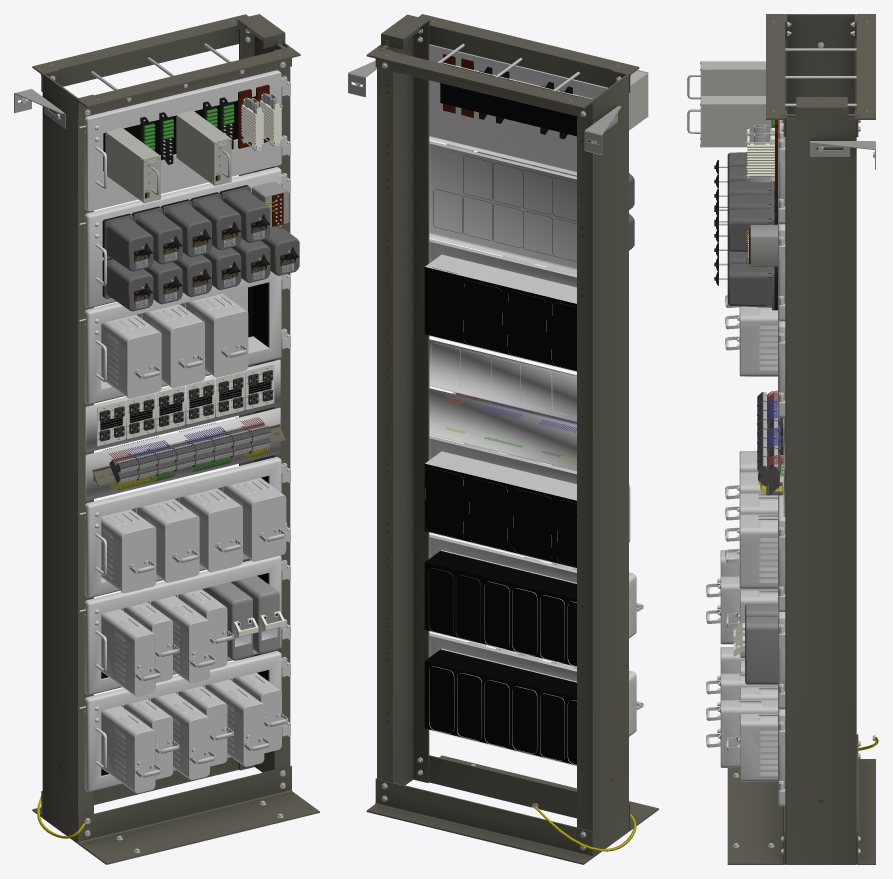
The model's file is stativ223.fbx.
3 renders of one model, left to right at view 1: azimuth 30°, elevation 25°; view 2: azimuth 150°, elevation 25°; view 3: azimuth 270°, elevation 25°, orthographic.
Visible parts, largest first — view 1: cabinet_stativ230a.016, pan_low.002, FPM_group.014, FPM_group.015, FPM_group.011, glass.005_low.003, FPM_group.013, glass.005_low.004, FPM_group.010, kolodka2_low.003, FPM_group.012, fpm.002_low.001 (+12 smaller); view 2: cabinet_stativ230a.016, pan_low.002, FPM_group.011, Cube_low.003, FPM_group.013; view 3: cabinet_stativ230a.016, pan_low.002, FPM_group.014, FPM_group.011, glass.005_low.003, FPM_group.010, Cube_low.008, FPM_group.015, fpm.002_low.001, Cube_low.003, glass.005_low.004, FPM_group.013 (+6 smaller).
Part boxes in pixels (box(x1,y1,x2,y2)): cabinet_stativ230a.016: box(14, 14, 319, 864); pan_low.002: box(79, 70, 290, 791); FPM_group.014: box(101, 478, 286, 593); FPM_group.015: box(101, 293, 248, 398); FPM_group.011: box(101, 679, 270, 793); glass.005_low.003: box(104, 186, 270, 271); FPM_group.013: box(101, 596, 216, 696); glass.005_low.004: box(104, 225, 299, 311); FPM_group.010: box(121, 673, 288, 779); kolodka2_low.003: box(109, 422, 271, 482); FPM_group.012: box(121, 589, 233, 682); fpm.002_low.001: box(204, 576, 279, 660); cabinet_stativ230a.016: box(348, 14, 658, 864); pan_low.002: box(424, 44, 629, 766); FPM_group.011: box(457, 648, 643, 764); Cube_low.003: box(629, 70, 648, 130); FPM_group.013: box(512, 563, 643, 666); cabinet_stativ230a.016: box(727, 14, 878, 864); pan_low.002: box(778, 120, 785, 806); FPM_group.014: box(725, 451, 777, 588); FPM_group.011: box(706, 647, 777, 767); glass.005_low.003: box(727, 152, 774, 252); FPM_group.010: box(726, 660, 777, 781); Cube_low.008: box(687, 95, 771, 147); FPM_group.015: box(725, 295, 777, 376); fpm.002_low.001: box(745, 604, 777, 684); Cube_low.003: box(687, 61, 765, 99); glass.005_low.004: box(727, 250, 774, 310); FPM_group.013: box(706, 550, 777, 644).
Size of the model in its own units: 73.83 by 213 by 48.83.
